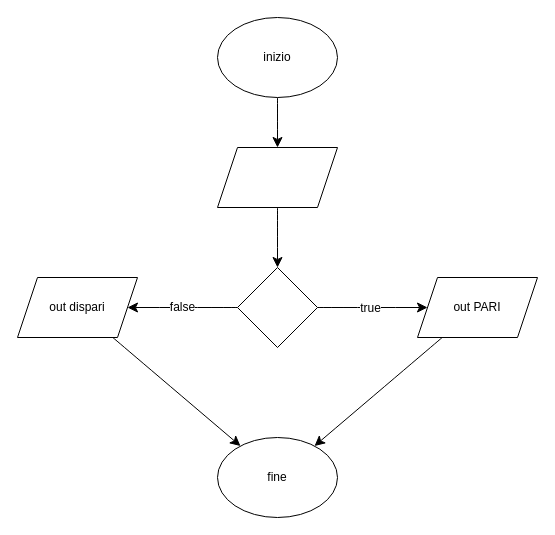
Image size: 555x535. Some labels were removed from this diagram. Each missing label, with the centre of its shape:
N%2==0: the point at 277,307
read N: the point at 277,177
